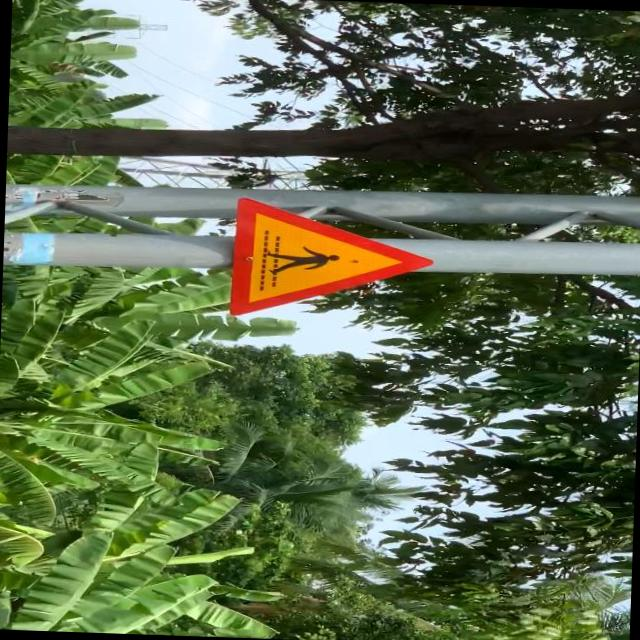W-224: (224, 197, 433, 322)
